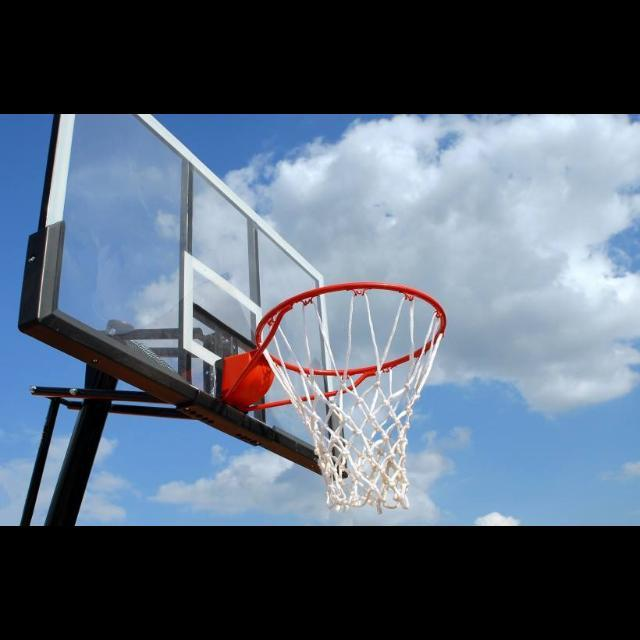rim: (256, 280, 446, 512)
